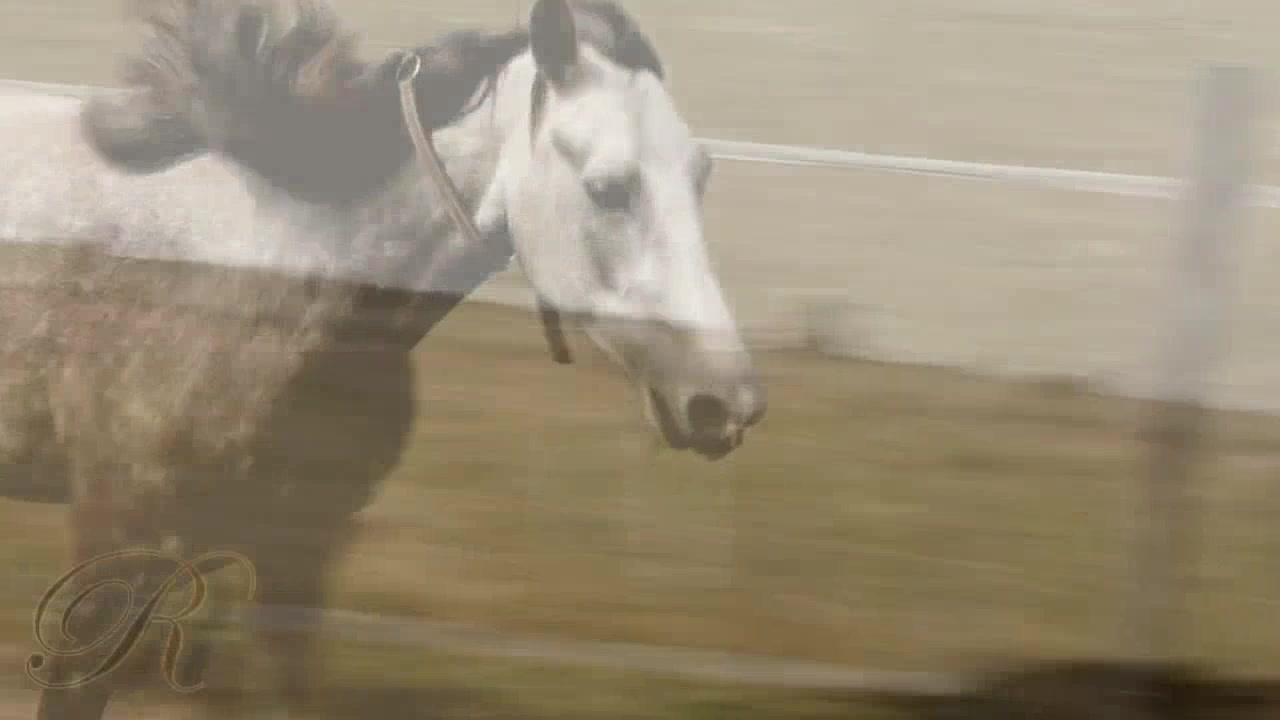horse: (2, 2, 768, 715)
